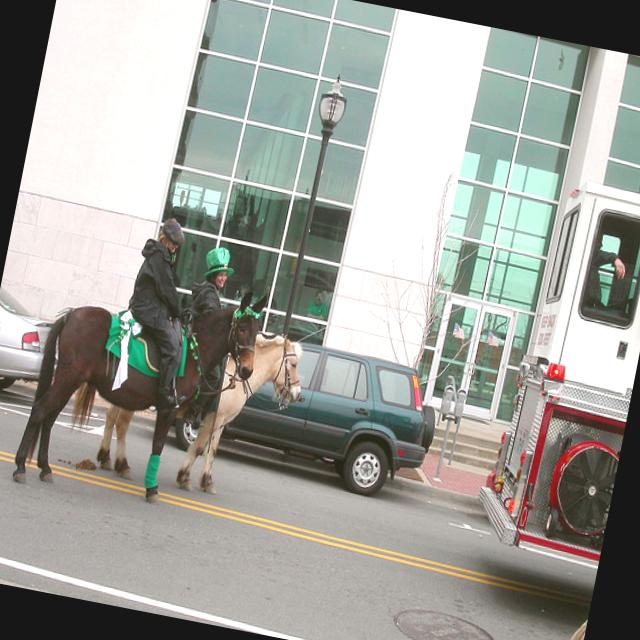Vehicle: (471, 168, 640, 569), (218, 330, 447, 508), (0, 279, 62, 399)
